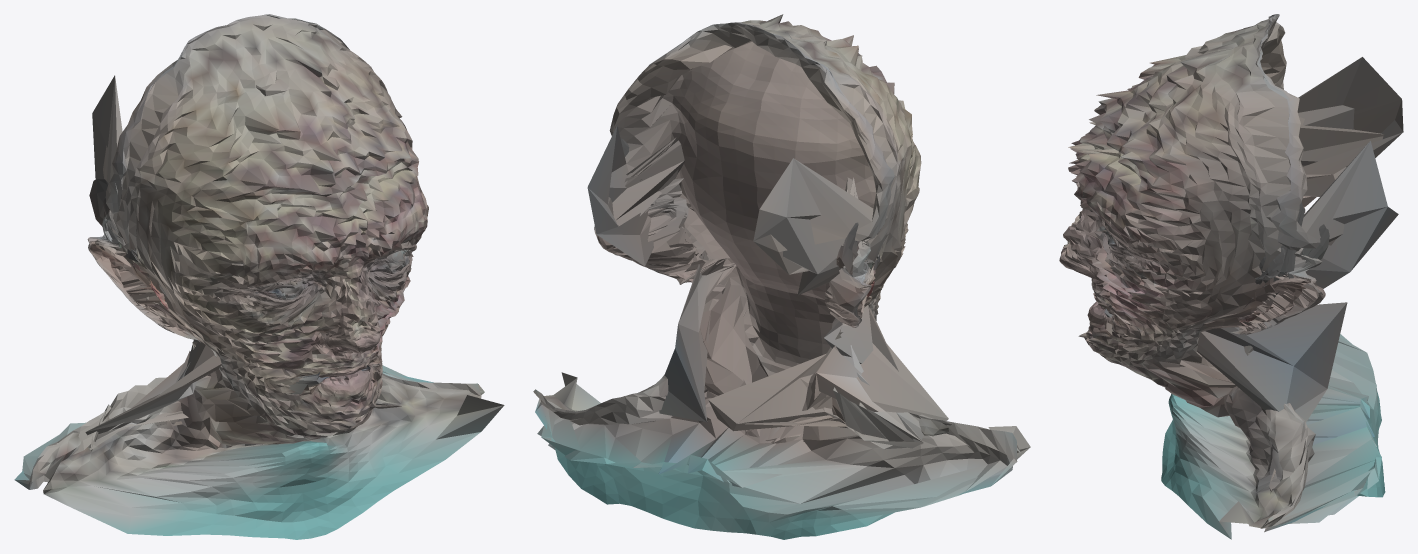
The model's file is chibi_textured_mesh.obj.
The picture shows the model from 3 angles, left to right: view 1: azimuth 30°, elevation 25°; view 2: azimuth 150°, elevation 25°; view 3: azimuth 270°, elevation 25°; orthographic projection. The views are drawn at different scales.
Bounding box in the file's own units: 0.327 × 0.3176 × 0.2227.
